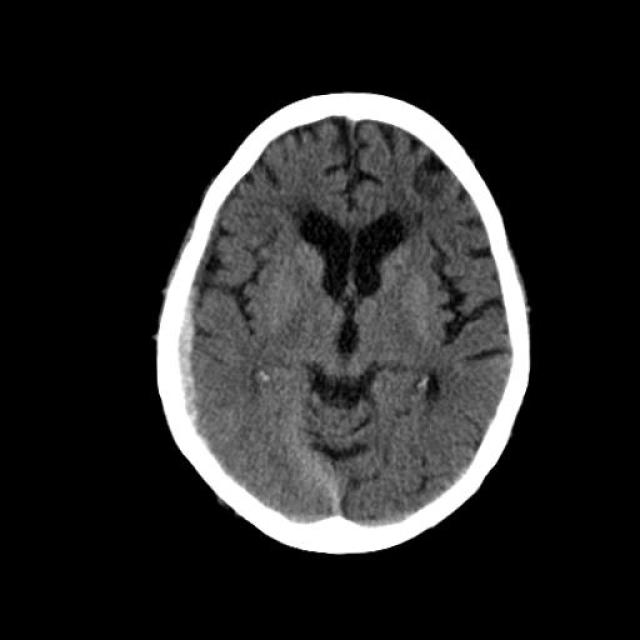Subdural: (82, 274, 239, 450)
